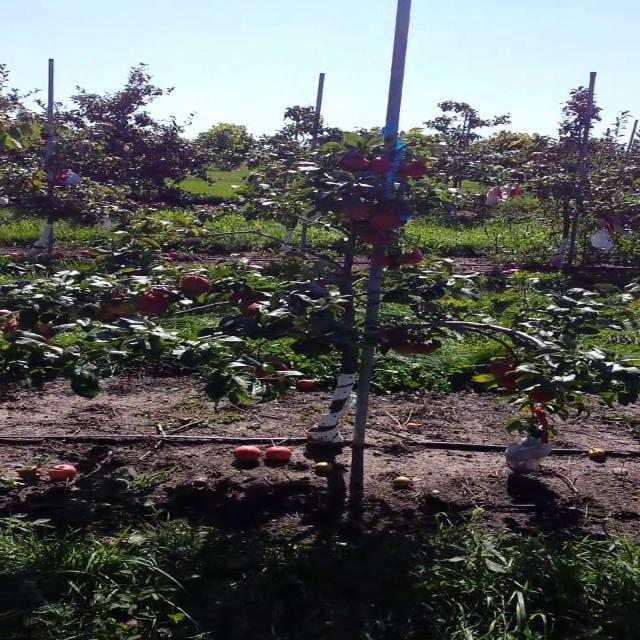apple: (133, 292, 169, 313), (367, 210, 402, 230), (256, 360, 291, 379), (180, 275, 211, 294), (338, 154, 367, 171), (340, 202, 369, 218), (400, 160, 427, 176), (529, 388, 558, 402), (487, 361, 516, 375), (367, 158, 391, 174), (100, 299, 127, 313), (360, 231, 387, 244), (400, 250, 422, 265), (404, 344, 436, 354), (407, 344, 438, 354), (240, 301, 260, 316), (149, 285, 176, 296), (98, 311, 120, 322), (393, 344, 416, 354), (296, 379, 316, 390), (371, 254, 389, 266), (36, 322, 51, 336), (229, 292, 247, 303), (2, 320, 18, 332), (500, 378, 516, 389), (311, 279, 327, 288), (122, 619, 138, 628), (0, 309, 13, 318), (289, 295, 302, 302), (42, 336, 51, 344)
